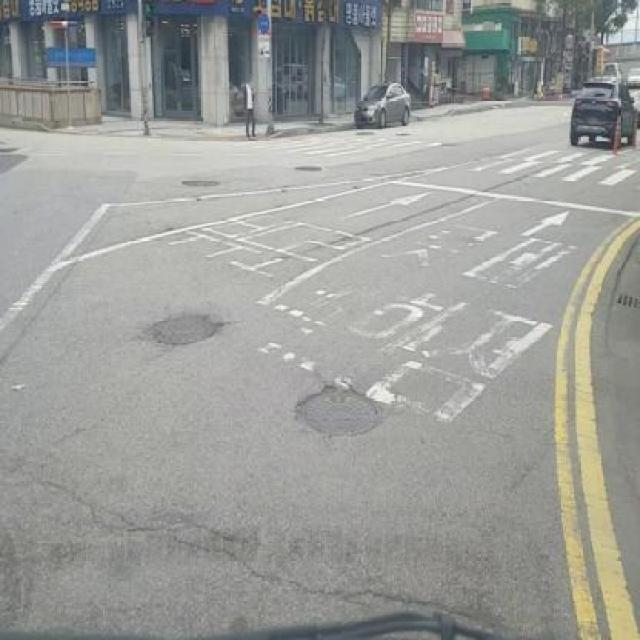Manhole: (294, 386, 383, 439), (150, 314, 222, 348), (178, 175, 226, 192), (609, 286, 640, 312), (292, 164, 328, 178)
